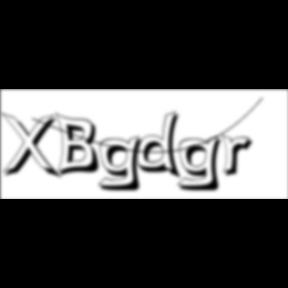B: (55, 111, 105, 179)
X: (0, 112, 64, 182)
d: (137, 110, 187, 182)
g: (98, 134, 150, 194), (177, 134, 229, 194)
r: (222, 134, 260, 180)
